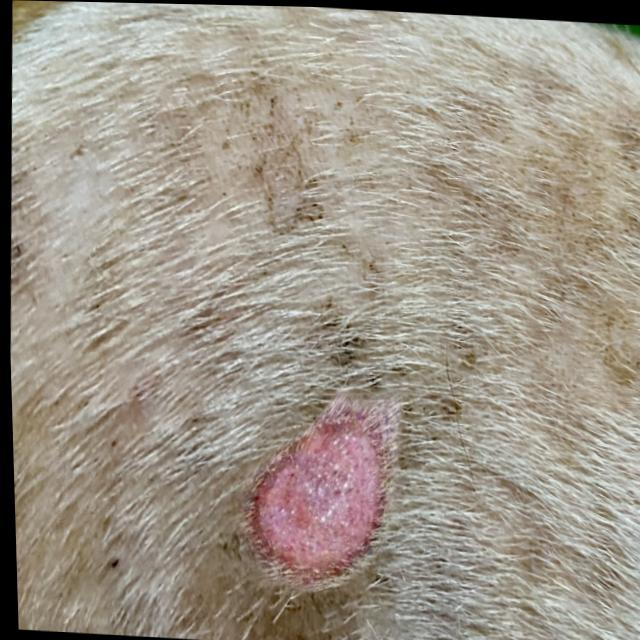ringworm: (240, 368, 397, 615)
